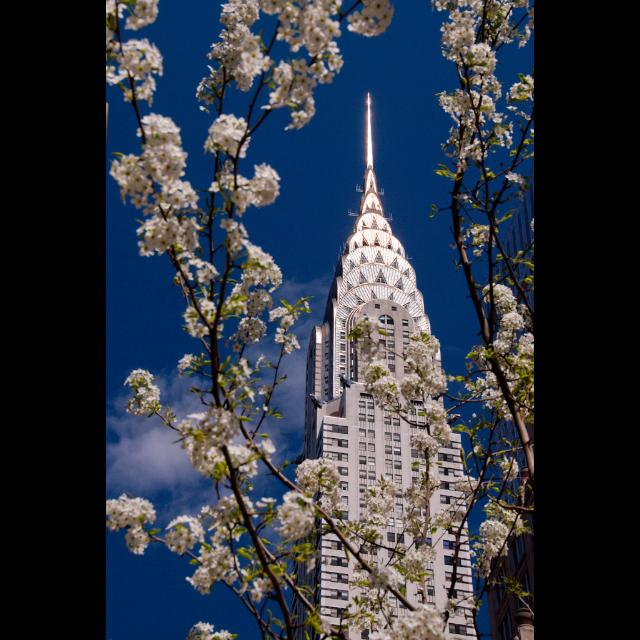Flower: (293, 313, 482, 639), (106, 108, 218, 346), (196, 0, 398, 130), (438, 0, 530, 164), (464, 278, 534, 432), (106, 0, 168, 101), (179, 410, 257, 480), (469, 500, 527, 584), (222, 243, 284, 319), (208, 163, 282, 217), (182, 542, 236, 602), (200, 496, 258, 546), (270, 492, 316, 554), (208, 114, 255, 160), (106, 493, 154, 529), (270, 307, 304, 357), (165, 515, 203, 555), (128, 369, 160, 415), (220, 218, 246, 256), (232, 317, 264, 347), (184, 621, 236, 639), (472, 222, 502, 252), (123, 526, 149, 552), (498, 462, 524, 480)
